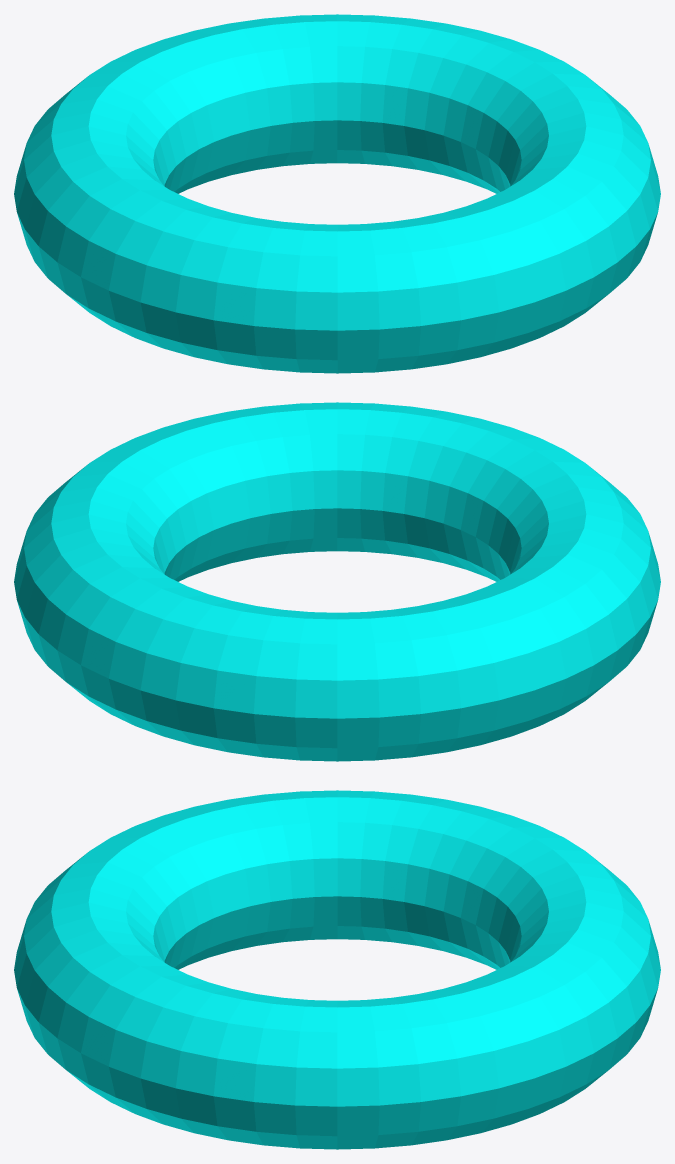
3 views of the same model, one above another, from view 1: azimuth 30°, elevation 25°; view 2: azimuth 150°, elevation 25°; view 3: azimuth 270°, elevation 25° (orthographic).
Parts seen in each view (by area): view 1: torus; view 2: torus; view 3: torus.
Boxes of the visible parts, left/top/right/bottom form: torus: left=14, top=14, right=660, bottom=373; torus: left=14, top=402, right=660, bottom=761; torus: left=14, top=790, right=660, bottom=1149.
Size of the model in its own units: 2.6 by 0.6 by 2.6.
